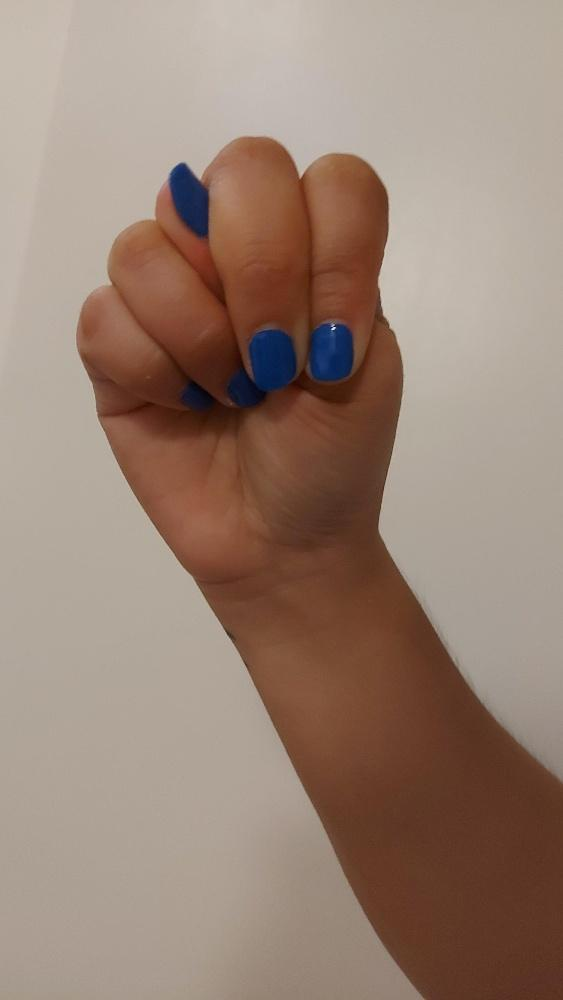n: (72, 133, 407, 585)
